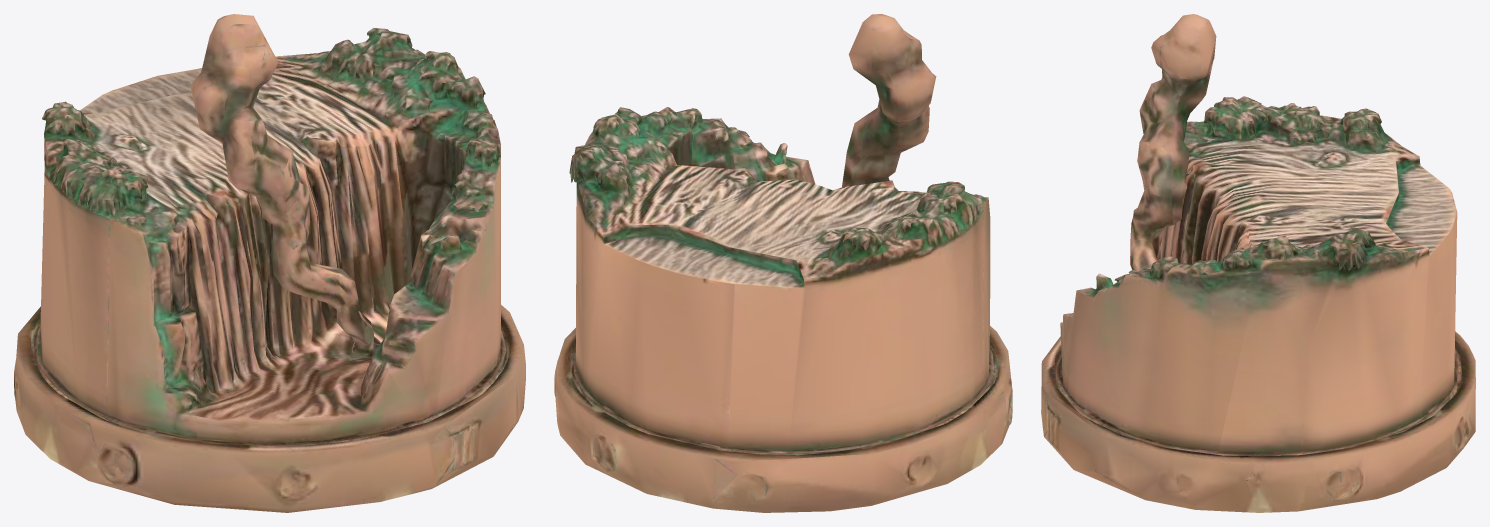
File: victoria_falls_bronze.glb
3 renders of one model, left to right at view 1: azimuth 30°, elevation 25°; view 2: azimuth 150°, elevation 25°; view 3: azimuth 270°, elevation 25°, orthographic. The views are drawn at different scales.
Visible parts, largest first — view 1: Mesh_0; view 2: Mesh_0; view 3: Mesh_0.
Boxes of the visible parts, x1,y1,x2,y2 form: Mesh_0: [14, 14, 525, 512]; Mesh_0: [554, 14, 1012, 512]; Mesh_0: [1041, 14, 1475, 512].
Size of the model in its own units: 1.91 by 1.82 by 1.89.
Materials: 1 (1 with a texture image).
